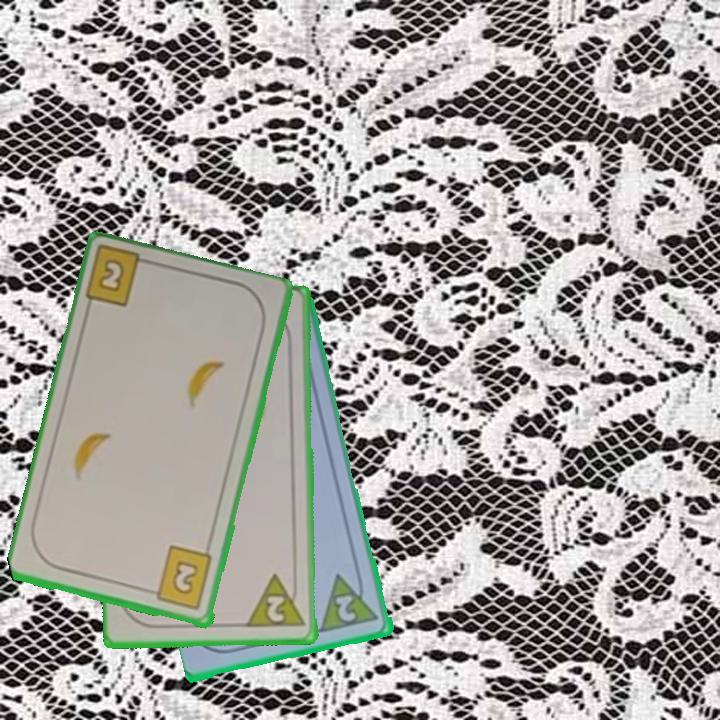2b: (144, 543, 216, 613), (82, 245, 158, 311)
2p: (244, 571, 309, 631), (332, 592, 360, 625)
